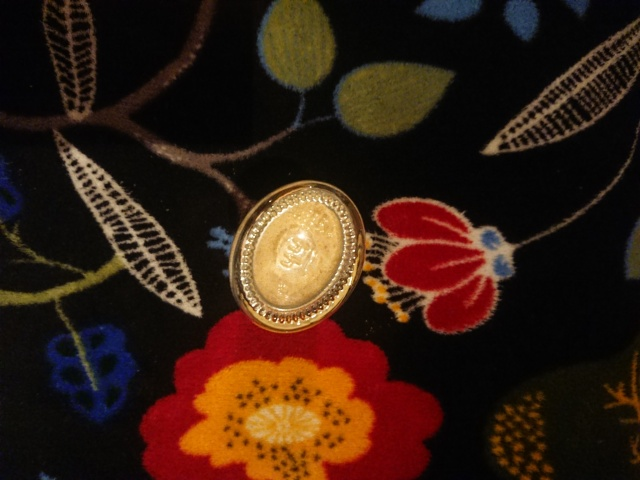Kotanyi Garlic Granules 70g: (226, 178, 369, 337)
